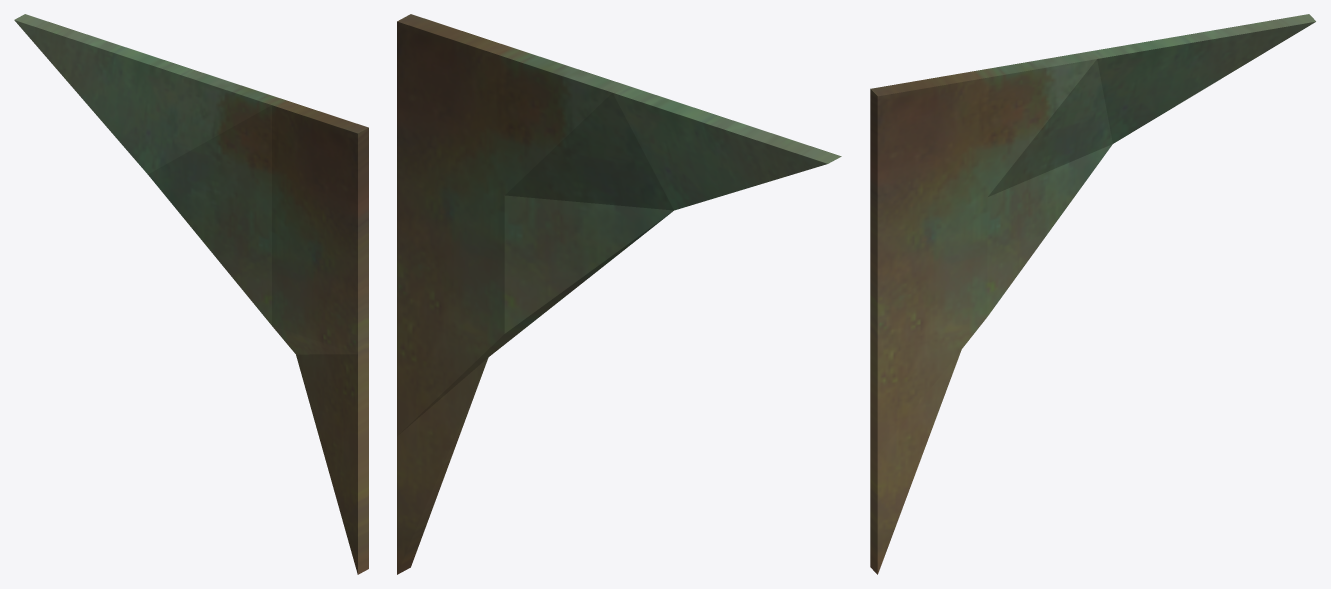
File: GH_1_EmbR_4.gltf
The picture shows the model from 3 angles, left to right: view 1: azimuth 30°, elevation 25°; view 2: azimuth 210°, elevation 25°; view 3: azimuth 270°, elevation 25°; orthographic projection. The views are drawn at different scales.
Visible parts, largest first — view 1: GH_1_EmbR_4; view 2: GH_1_EmbR_4; view 3: GH_1_EmbR_4.
Part boxes in pixels (left/top/right/bottom): GH_1_EmbR_4: left=14, top=14, right=368, bottom=574; GH_1_EmbR_4: left=397, top=14, right=841, bottom=574; GH_1_EmbR_4: left=870, top=14, right=1315, bottom=574.
Size of the model in its own units: 0.5174 by 1.4 by 1.18.
Materials: 1 (1 with a texture image).
